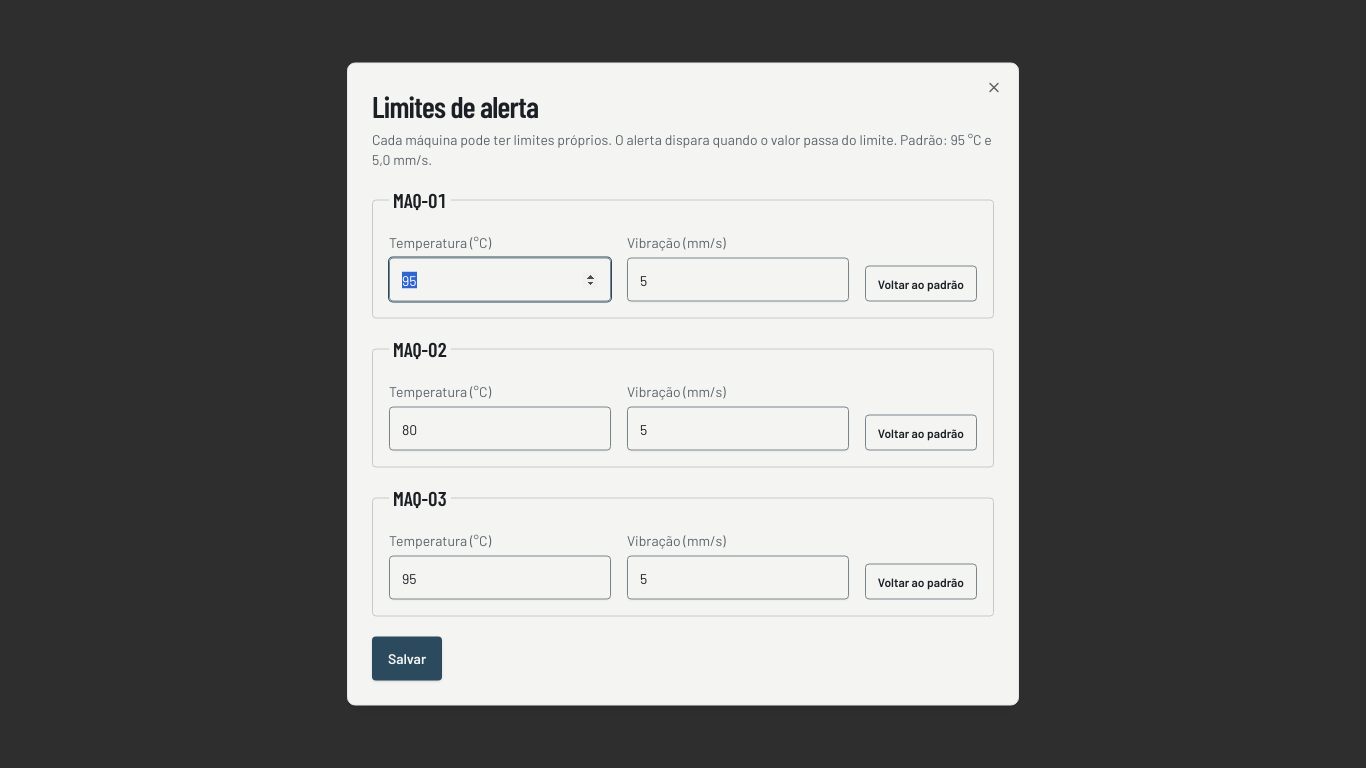
Test: LimitesDeAlerta › voltar ao padrão e salvar apaga o limite próprio (DELETE)
Step 1. Click the button with aria-label "Voltar MAQ-02 ao limite padrão" → (921, 432), box [865,414,977,450]
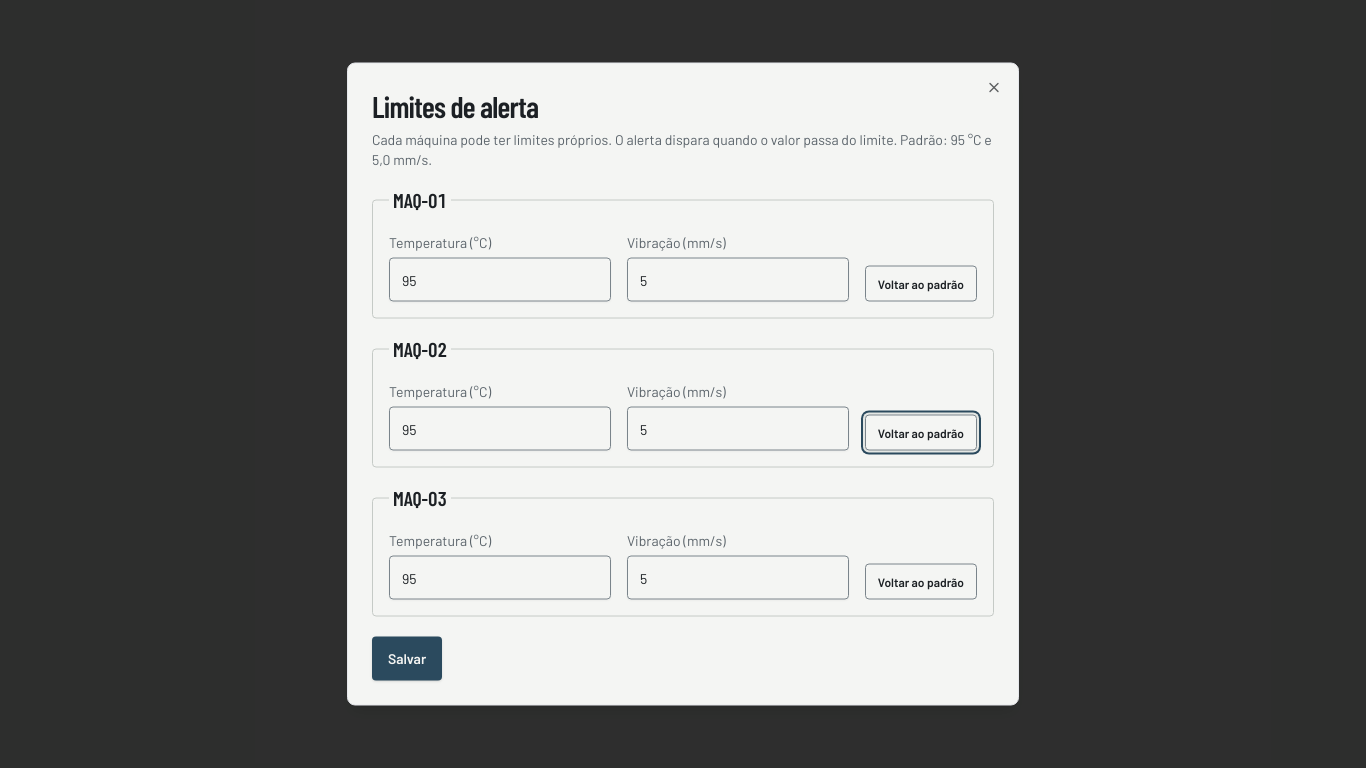
Now the number field labelled "Temperatura (°C)" below "MAQ-02" holds "95", box [389,406,611,450]
Step 2. Click the button "Salvar" → (407, 658), box [372,636,442,680]
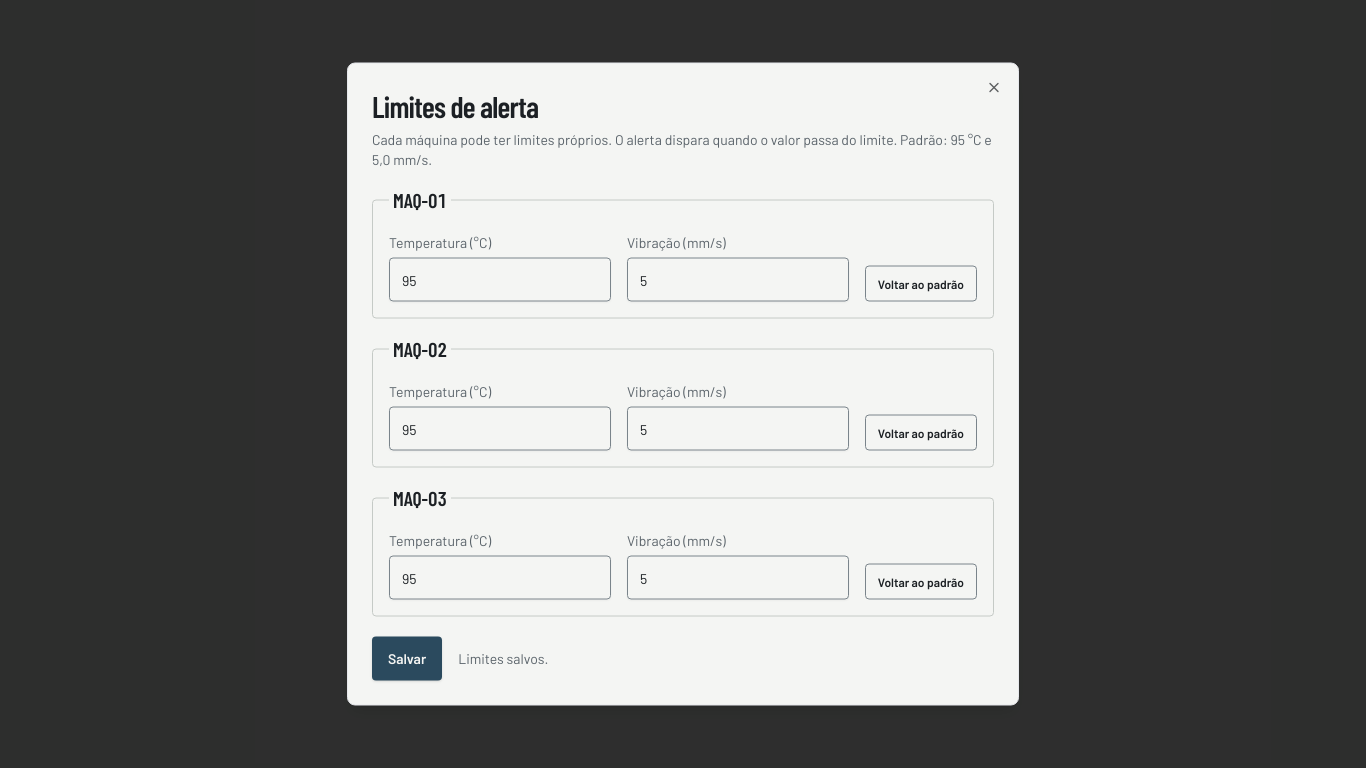
Now the message reads "Limites salvos.", box [458,650,548,666]
